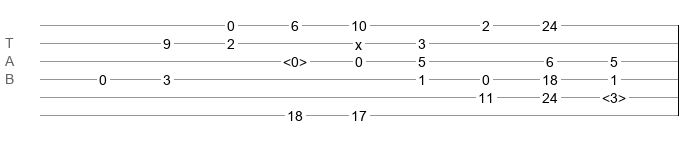0: (99, 72, 107, 82), (227, 18, 235, 28), (355, 54, 363, 64), (482, 72, 490, 82)
1: (418, 72, 426, 82), (610, 72, 618, 82)
10: (351, 18, 367, 28)
11: (478, 90, 494, 100)
17: (351, 108, 367, 118)
18: (287, 108, 303, 118), (542, 72, 558, 82)
2: (227, 36, 235, 46), (482, 18, 490, 28)
24: (542, 18, 558, 28), (542, 90, 558, 100)
3: (163, 72, 171, 82), (418, 36, 426, 46)
5: (418, 54, 426, 64), (610, 54, 618, 64)
6: (291, 18, 299, 28), (546, 54, 554, 64)
9: (163, 36, 171, 46)
harmonic: (283, 54, 307, 64), (602, 90, 626, 100)
x: (355, 37, 362, 45)
